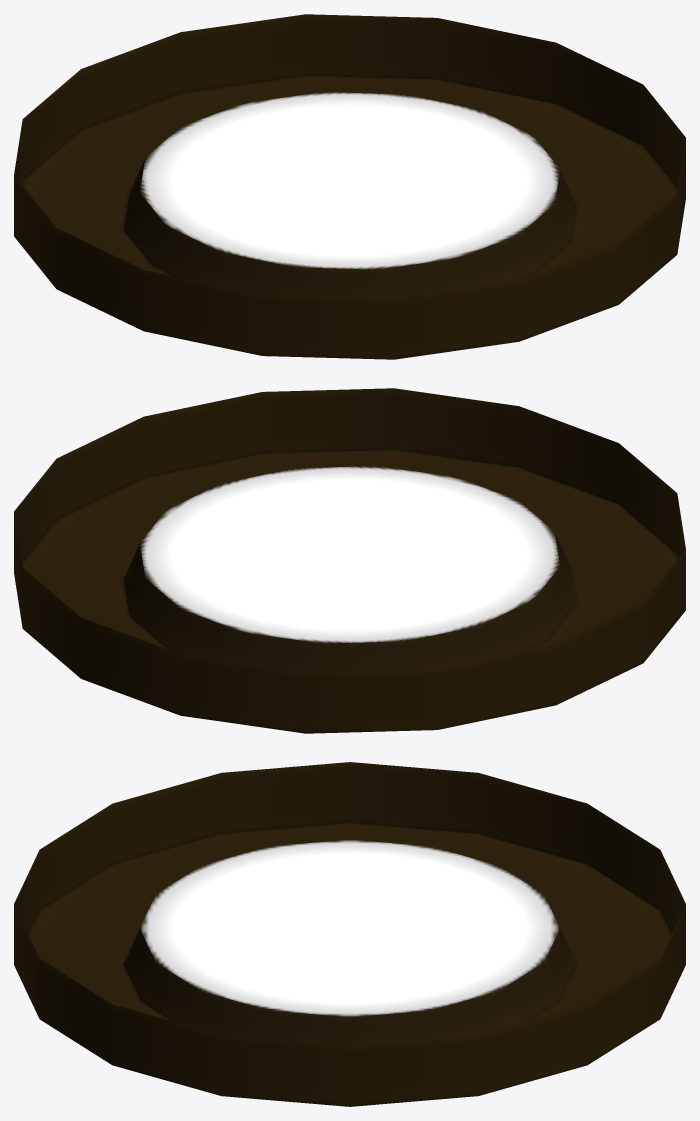
Rendered from LampPoint.FBX.
3 renders of one model, top to bottom at view 1: azimuth 30°, elevation 25°; view 2: azimuth 150°, elevation 25°; view 3: azimuth 270°, elevation 25°, orthographic.
Parts seen in each view (by area): view 1: LampPoint; view 2: LampPoint; view 3: LampPoint.
Part boxes in pixels (x1,y1,x2,y2): LampPoint: (14, 14, 685, 359); LampPoint: (14, 388, 685, 733); LampPoint: (14, 762, 685, 1106).
Bounding box in the file's own units: 10 × 1 × 10.
